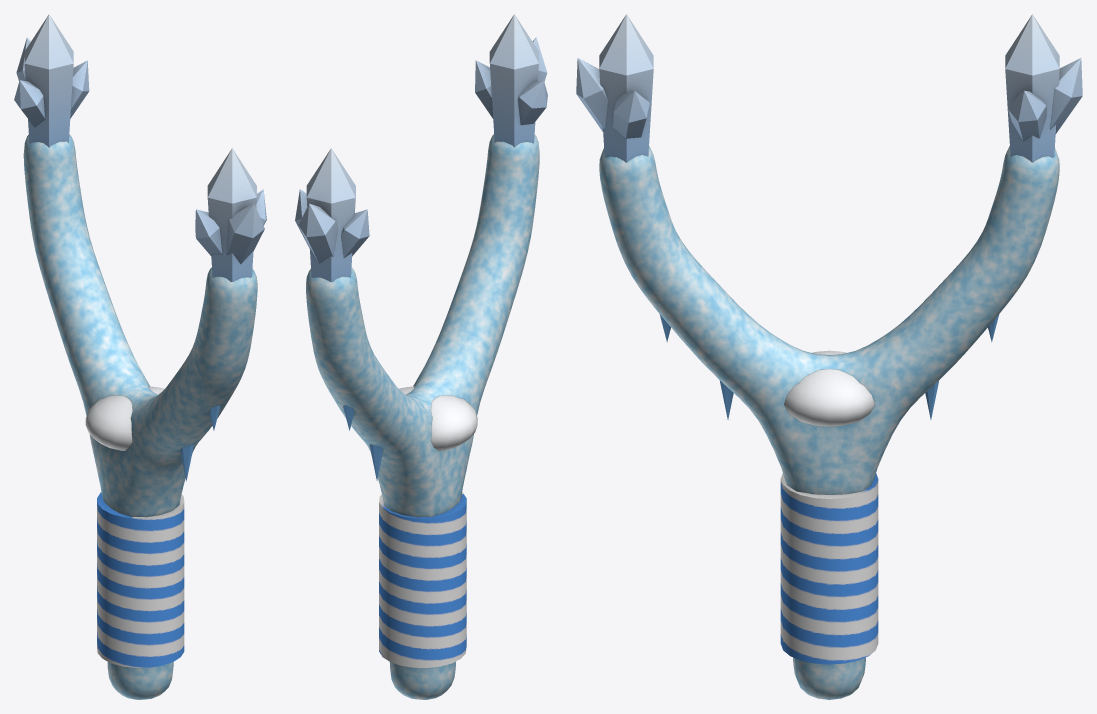
The model's file is Ice Slingshot.fbx.
3 views of the same model, side by side, from view 1: azimuth 30°, elevation 25°; view 2: azimuth 150°, elevation 25°; view 3: azimuth 270°, elevation 25° (orthographic). The views are drawn at different scales.
Parts seen in each view (by area): view 1: Ice Slingshot; view 2: Ice Slingshot; view 3: Ice Slingshot.
Part boxes in pixels (<box>): Ice Slingshot: <box>14,14,266,699</box>; Ice Slingshot: <box>295,14,547,699</box>; Ice Slingshot: <box>576,14,1082,699</box>.
Bounding box in the file's own units: 2.5 × 14.82 × 9.98.
1 material, 1 textured.
